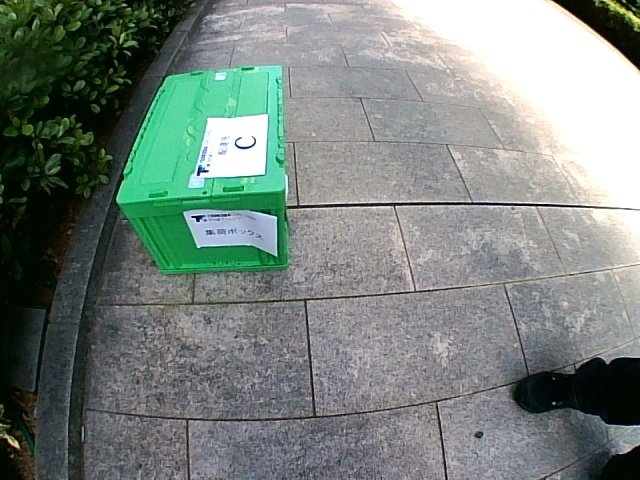blue_box: (116, 66, 287, 273)
tag_c: (208, 118, 266, 176)
